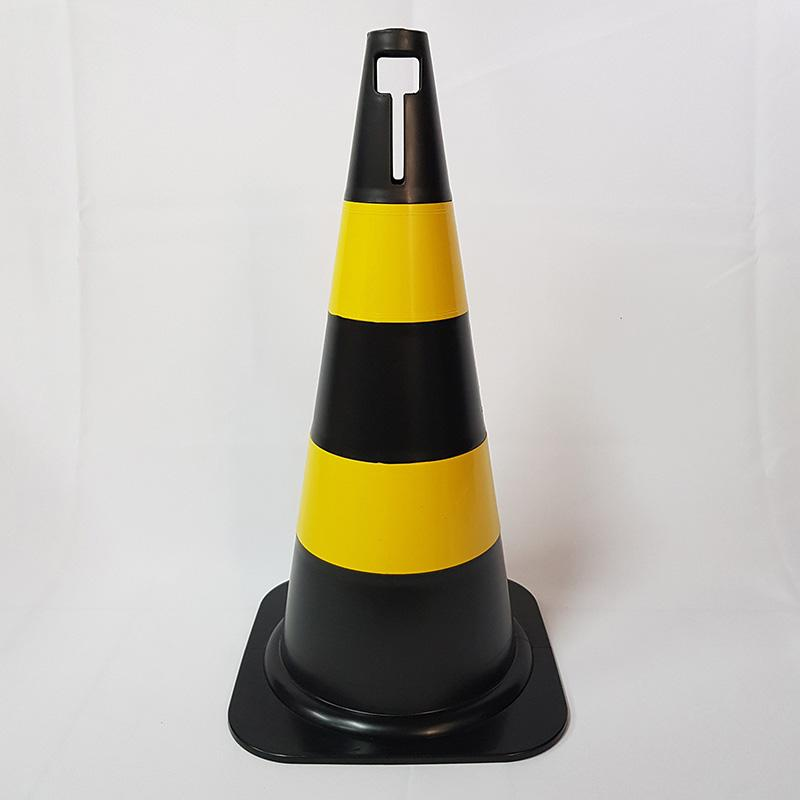traffic_cone: (227, 26, 571, 764)
